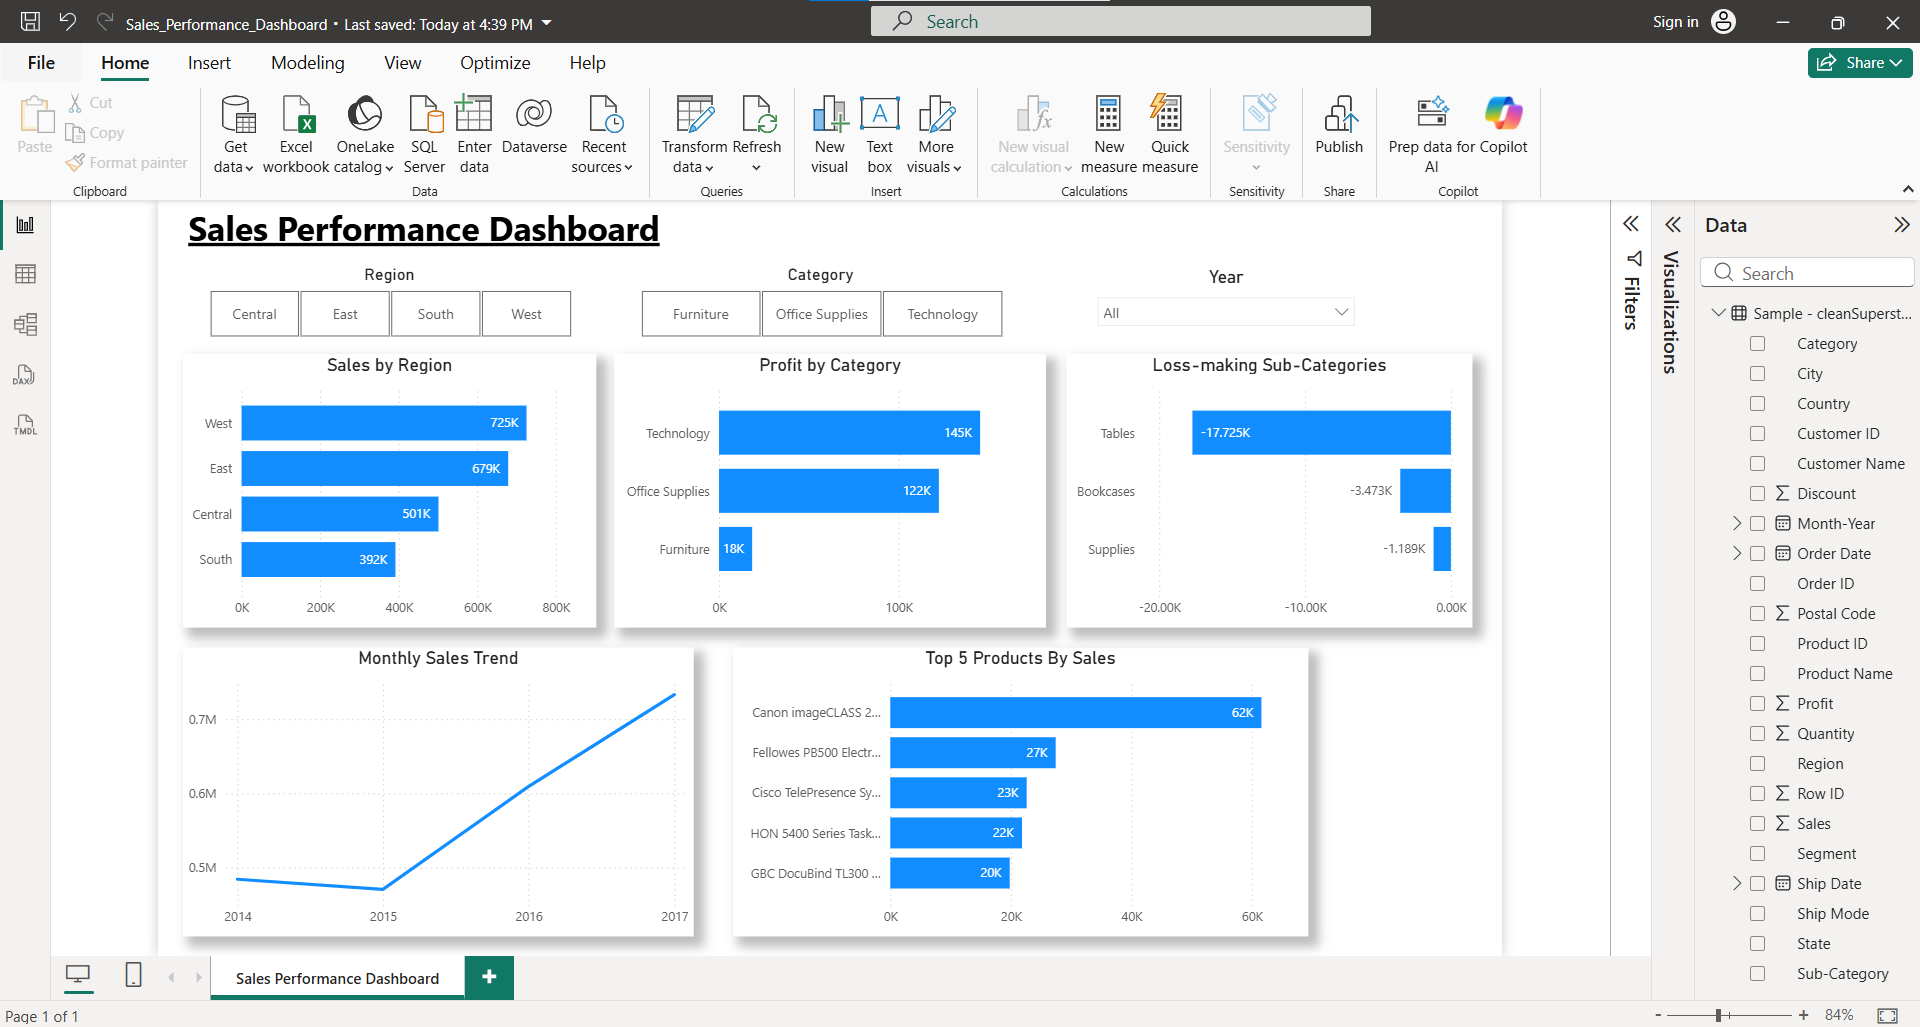

The dashboard page shown, as its layout file describes it:
{"tool":"powerbi","page":{"name":"Sales Performance Dashboard","canvas":[1280,720],"ordinal":0},"visuals":[{"type":"textbox","box":[24.1,0,591.2,62.7],"z":0},{"type":"clusteredBarChart","title":"Sales by Region","fields":{"Category":["Sample - cleanSuperstore.Region"],"Y":["Sum(Sample - cleanSuperstore.Sales)"]},"box":[24.1,146,393.3,260.6],"z":1000},{"type":"clusteredBarChart","title":"Profit by Category","fields":{"Y":["Sum(Sample - cleanSuperstore.Profit)"],"Category":["Sample - cleanSuperstore.Category"]},"box":[434.3,146,411.4,260.6],"z":2000},{"type":"lineChart","title":"Monthly Sales Trend","fields":{"Y":["Sum(Sample - cleanSuperstore.Sales)"],"Category":["Sample - cleanSuperstore.Order Date.Variation.Date Hierarchy.Year","Sample - cleanSuperstore.Order Date.Variation.Date Hierarchy.Month"]},"box":[24.1,425.9,486.2,275.1],"z":2001},{"type":"clusteredBarChart","title":"Top 5 Products By Sales","fields":{"Category":["Sample - cleanSuperstore.Product Name"],"Y":["Sum(Sample - cleanSuperstore.Sales)"]},"box":[547.7,425.9,547.7,275.1],"z":2002},{"type":"clusteredBarChart","title":"Loss-making  Sub-Categories","fields":{"Category":["Sample - cleanSuperstore.Sub-Category"],"Y":["Sum(Sample - cleanSuperstore.Profit)"]},"box":[865,146,386.1,260.6],"z":2003},{"type":"slicer","title":"Region","fields":{"Values":["Sample - cleanSuperstore.Region"]},"box":[24.1,61.5,393.3,74.8],"z":2004},{"type":"slicer","title":"Category","fields":{"Values":["Sample - cleanSuperstore.Category"]},"box":[434.3,61.5,393.3,74.8],"z":2005},{"type":"slicer","title":"Year","fields":{"Values":["Sample - cleanSuperstore.Order Date.Variation.Date Hierarchy.Year"]},"box":[884.3,62.7,265.4,74.8],"z":2006}]}

Visuals, with their boxes on the page's 1280x720 design canvas (x1, y1, x2, y2). These are canvas units, not pixel positions in the 1920x1027 screenshot, which may show the page scaled, cropped or inside an application window:
textbox: x1=24 y1=0 x2=615 y2=63
"Sales by Region" clusteredBarChart: x1=24 y1=146 x2=417 y2=407
"Profit by Category" clusteredBarChart: x1=434 y1=146 x2=846 y2=407
"Monthly Sales Trend" lineChart: x1=24 y1=426 x2=510 y2=701
"Top 5 Products By Sales" clusteredBarChart: x1=548 y1=426 x2=1095 y2=701
"Loss-making  Sub-Categories" clusteredBarChart: x1=865 y1=146 x2=1251 y2=407
"Region" slicer: x1=24 y1=62 x2=417 y2=136
"Category" slicer: x1=434 y1=62 x2=828 y2=136
"Year" slicer: x1=884 y1=63 x2=1150 y2=138
